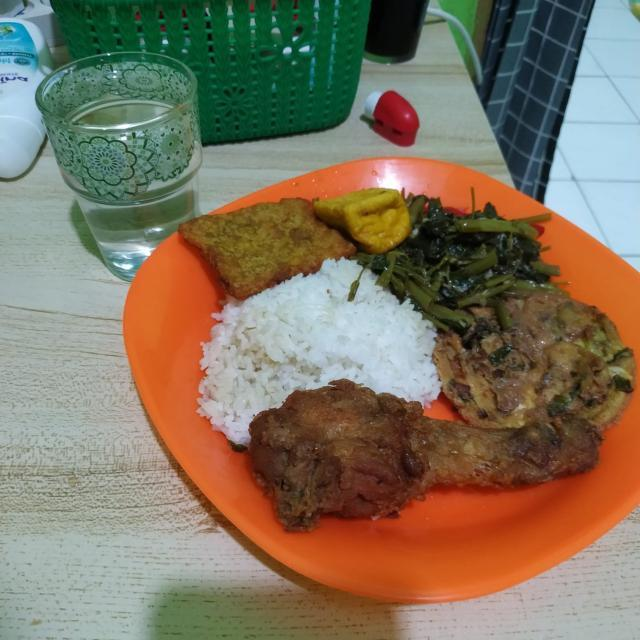ayam_goreng: (274, 351, 608, 540)
nasi_putih: (188, 240, 443, 434)
telur_ayam_dadar: (448, 255, 636, 422)
